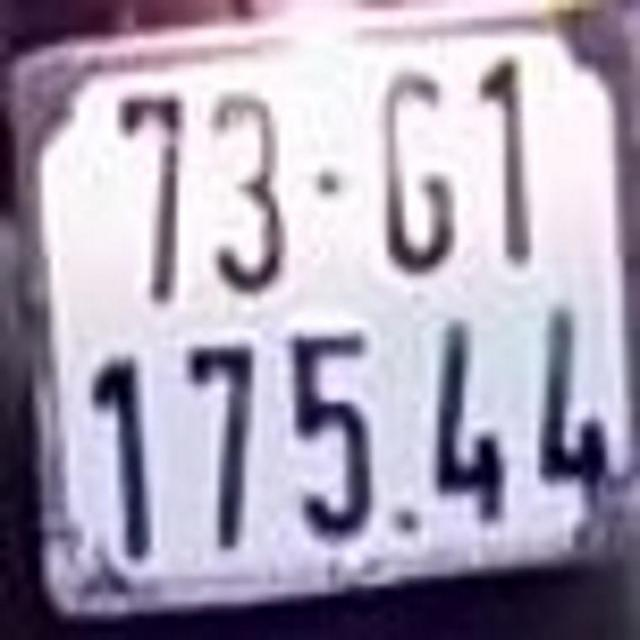1: (471, 47, 545, 274), (81, 348, 158, 564)
3: (200, 85, 290, 298)
4: (527, 292, 617, 524), (421, 303, 511, 524)
5: (286, 324, 382, 551)
7: (180, 337, 264, 553), (112, 85, 188, 306)
G: (372, 57, 462, 281)
